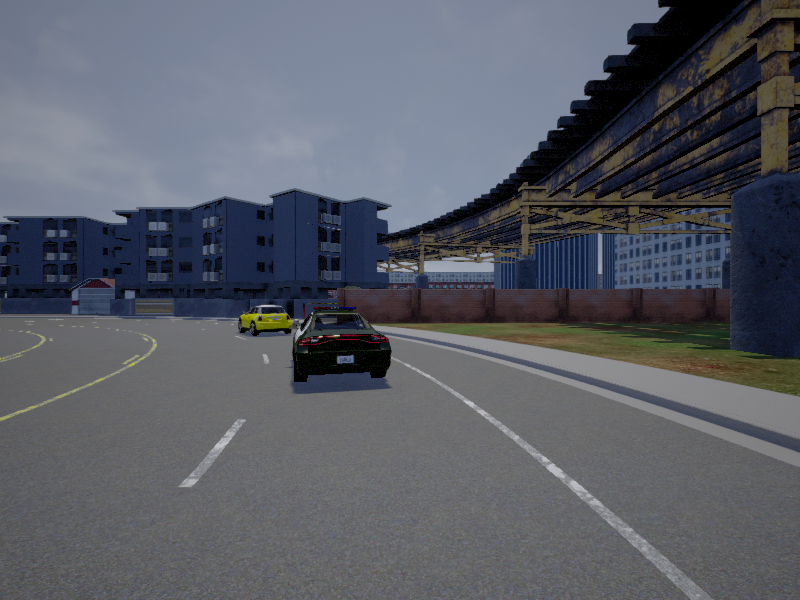Benign: (295, 306, 392, 384), (238, 304, 294, 335)
